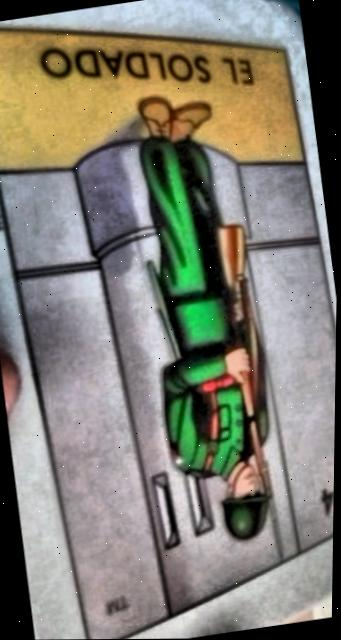El Soldado: (0, 30, 337, 639)
